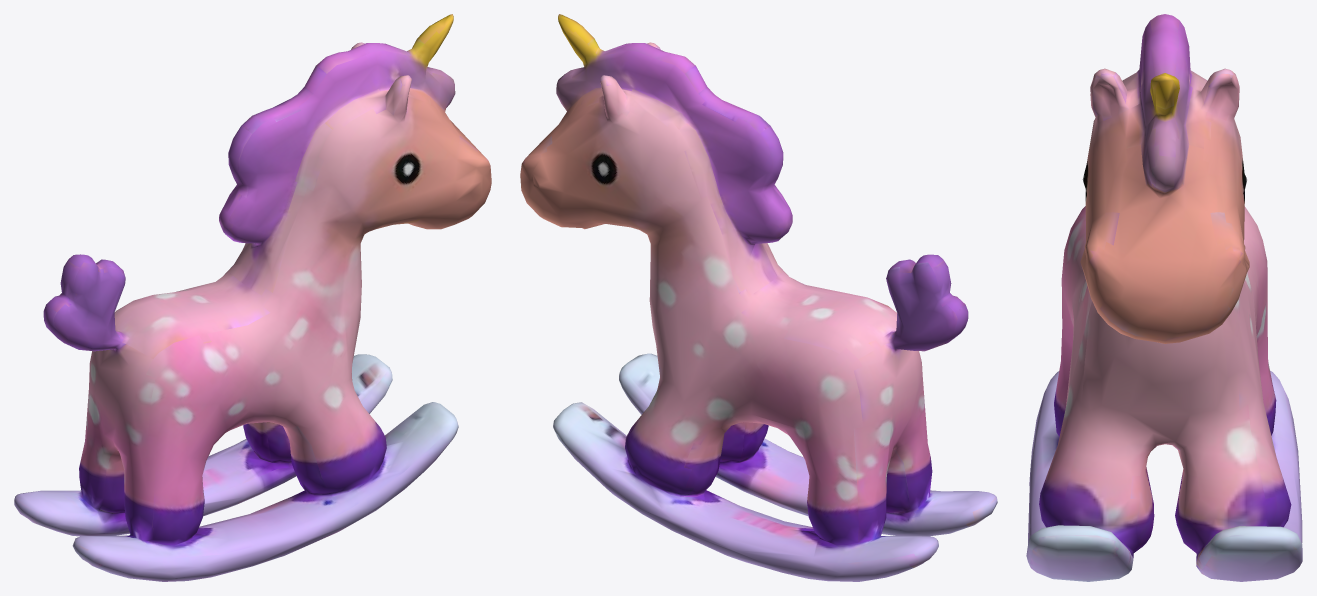
File: rocking_unicorn.glb
The picture shows the model from 3 angles, left to right: view 1: azimuth 30°, elevation 25°; view 2: azimuth 150°, elevation 25°; view 3: azimuth 270°, elevation 25°; orthographic projection. The views are drawn at different scales.
Parts seen in each view (by area): view 1: Object_2; view 2: Object_2; view 3: Object_2.
Part boxes in pixels (box(x1,y1,x2,y2)): Object_2: box(14, 14, 491, 581); Object_2: box(520, 14, 997, 581); Object_2: box(1026, 14, 1302, 581).
Bounding box in the file's own units: 0.5812 × 0.6 × 0.2416.
1 material, 1 textured.
